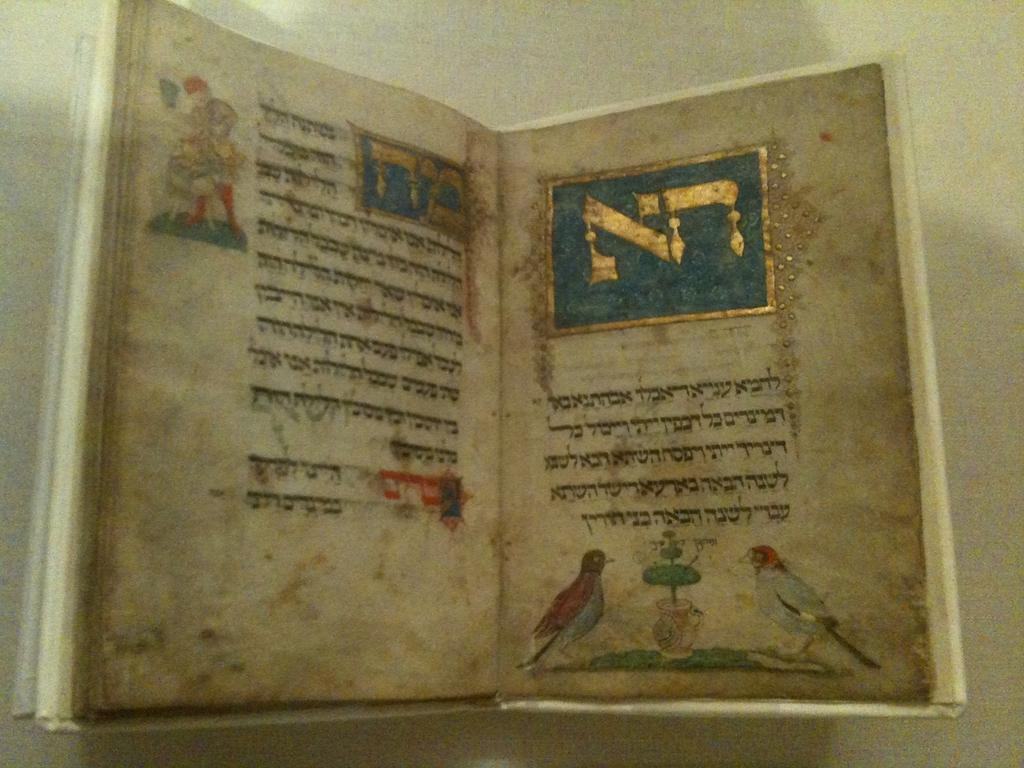book: (50, 0, 992, 749)
